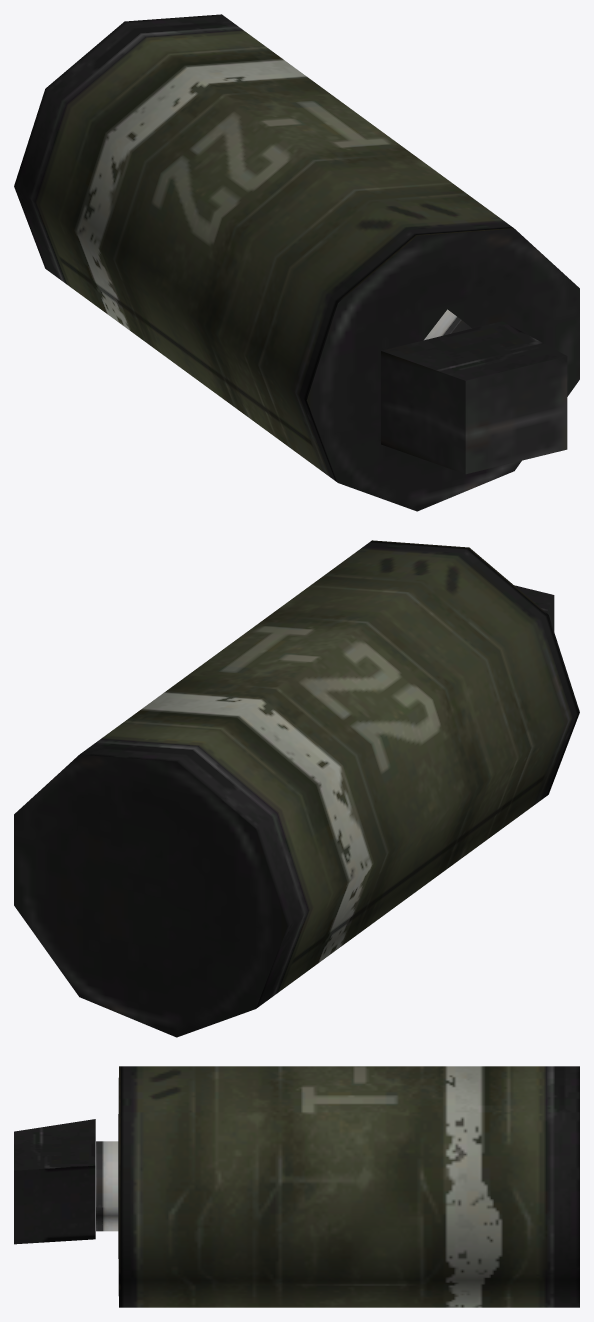
File: t6_wpn_grenade_smoke_world_LOD2.obj
3 views of the same model, one above another, from view 1: azimuth 30°, elevation 25°; view 2: azimuth 150°, elevation 25°; view 3: azimuth 270°, elevation 25° (orthographic). The views are drawn at different scales.
Visible parts, largest first — view 1: mtl_t6_wpn_grenade_smoke; view 2: mtl_t6_wpn_grenade_smoke; view 3: mtl_t6_wpn_grenade_smoke.
Boxes of the visible parts, x1,y1,x2,y2 form: mtl_t6_wpn_grenade_smoke: (14, 14, 579, 511); mtl_t6_wpn_grenade_smoke: (14, 540, 579, 1037); mtl_t6_wpn_grenade_smoke: (14, 1066, 579, 1307).
Size of the model in its own units: 6.09 by 5.88 by 13.88.
